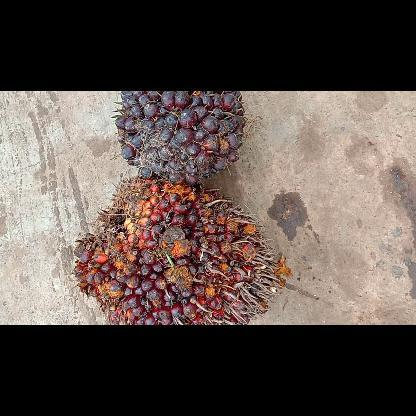TBS masak: (72, 174, 280, 324)
TBS mentah: (110, 90, 248, 184)
